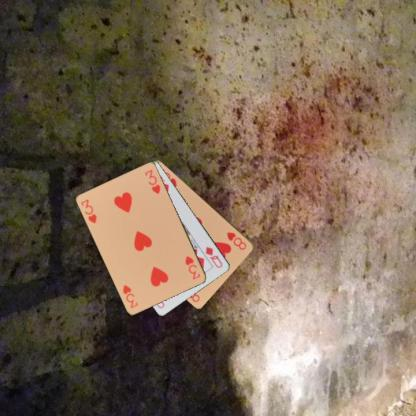3h: (79, 196, 98, 225), (183, 253, 202, 281)
8h: (224, 230, 248, 252)
Qd: (203, 244, 224, 269)
